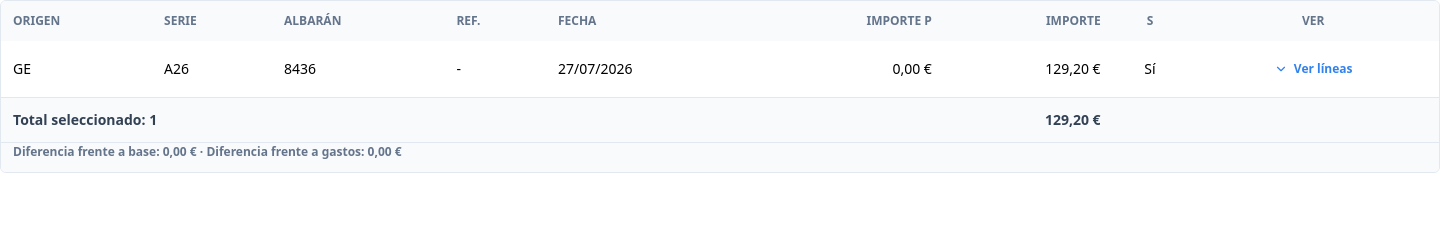
Test: FacturaPunteosTable › explica una respuesta vacía y no vuelve a solicitarla al reabrir
This screenshot has width=1440, height=243.
Click the button "Ver líneas". click: click(1313, 69)
box: [1266, 53, 1360, 85]
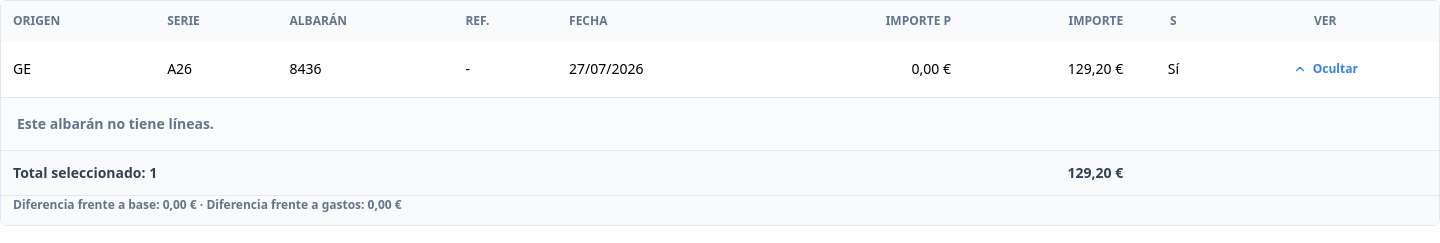
expect the text "Este albarán no tiene líneas." is shown: met, box [17, 114, 214, 133]
Click the button "Ocultar". click: click(1325, 69)
box: [1285, 53, 1366, 85]
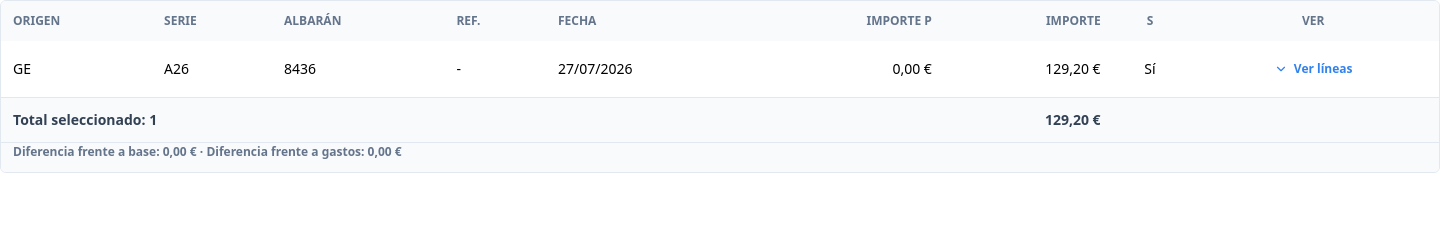
Click the button "Ver líneas". click: click(1313, 69)
box: [1266, 53, 1360, 85]
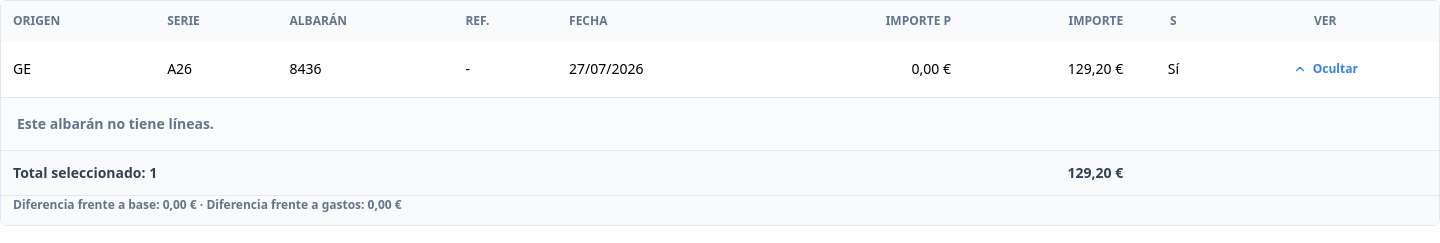
expect the text "Este albarán no tiene líneas." is shown: met, box [17, 114, 214, 133]
